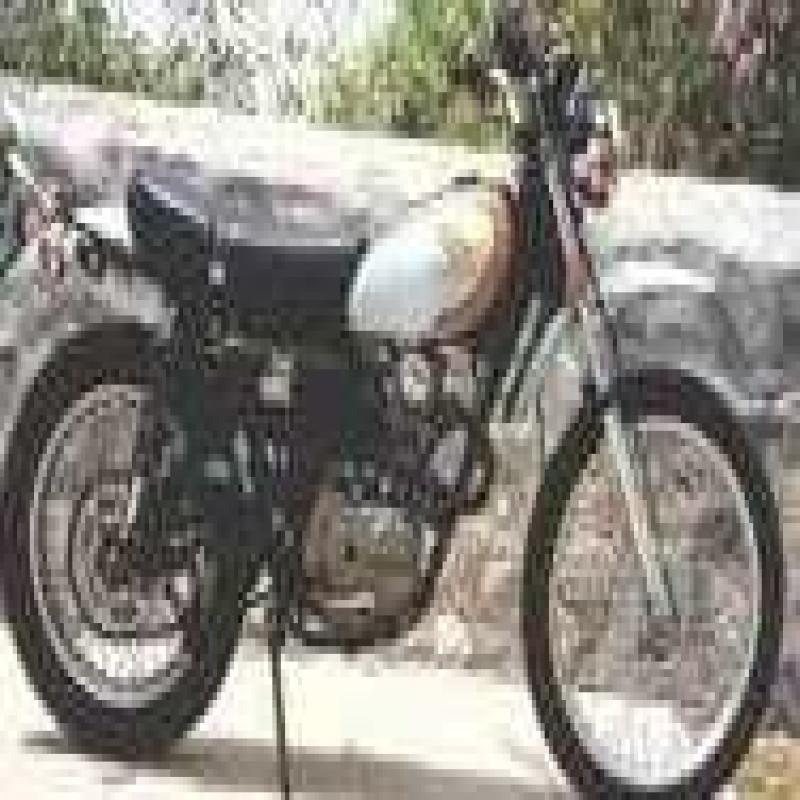bike: (11, 2, 800, 800)
